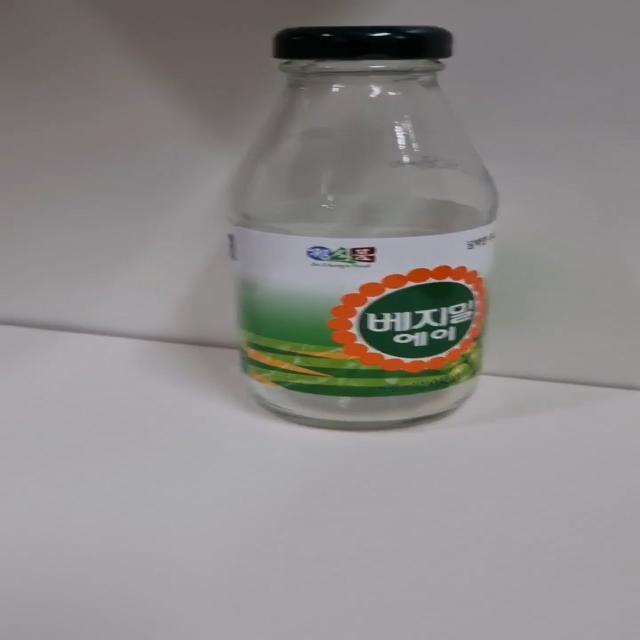Glass: (224, 26, 500, 434)
